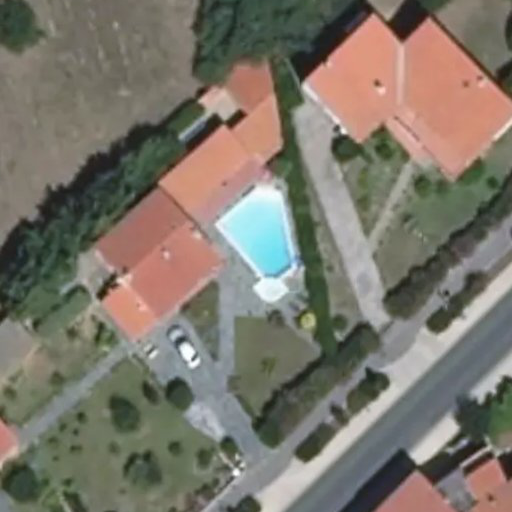pool: (213, 214, 322, 264)
